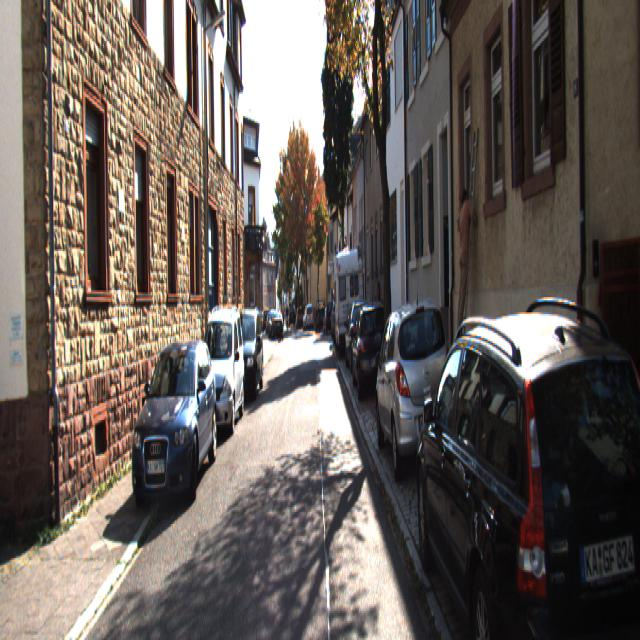Car: (412, 306, 640, 638), (124, 334, 218, 523), (374, 290, 456, 488), (191, 304, 246, 440), (349, 295, 390, 401), (332, 251, 366, 365), (228, 312, 264, 411), (342, 300, 377, 374), (322, 302, 336, 336), (270, 313, 284, 342)
